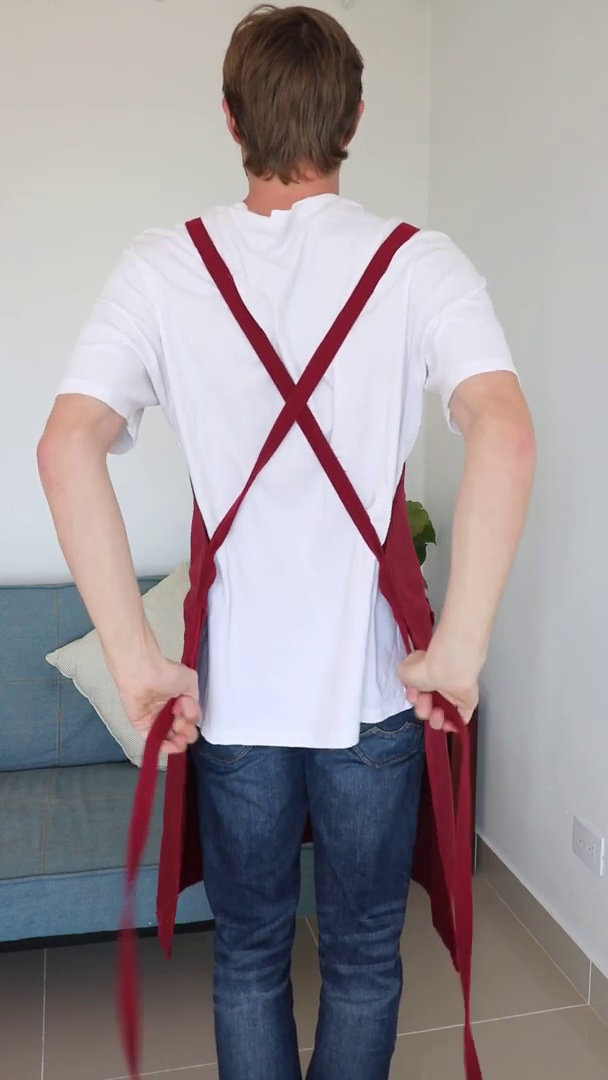Apron: (173, 208, 423, 741)
No_Glove: (104, 650, 203, 759), (398, 652, 482, 732)
No_Hairnet: (217, 0, 363, 171)
